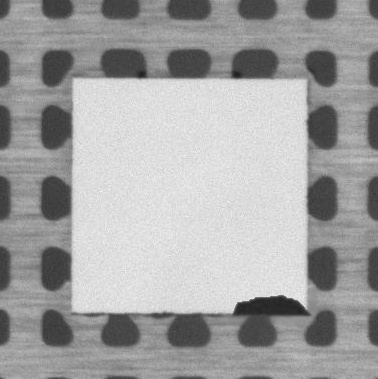DIE_BROKEN: (225, 292, 313, 317)
